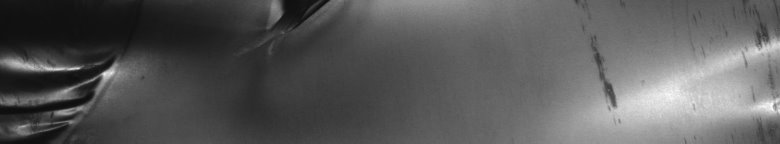ke: (36, 56, 118, 136)
